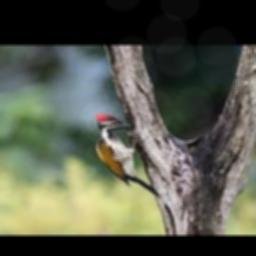Woodpecker: (96, 114, 160, 196)
